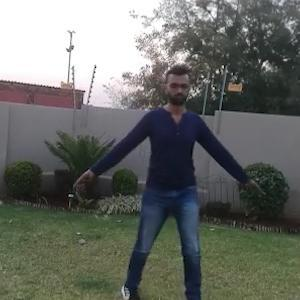land: (88, 70, 256, 298)
